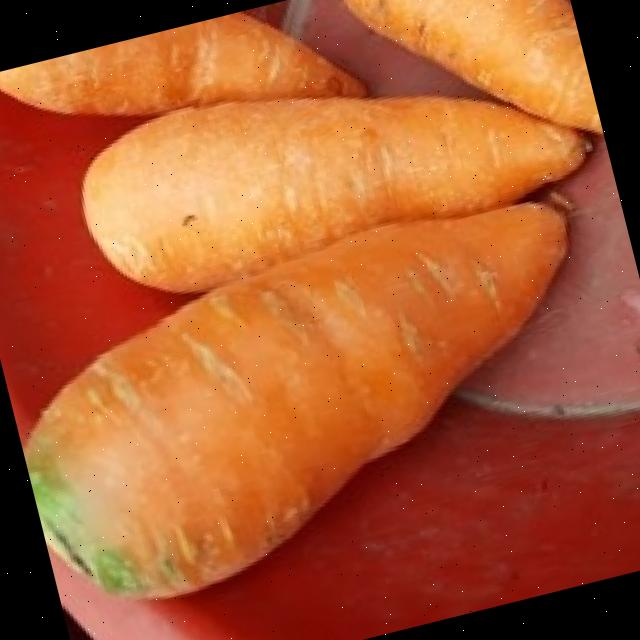carrot: (24, 209, 562, 601), (80, 101, 581, 295), (0, 17, 361, 118), (342, 0, 598, 136)
